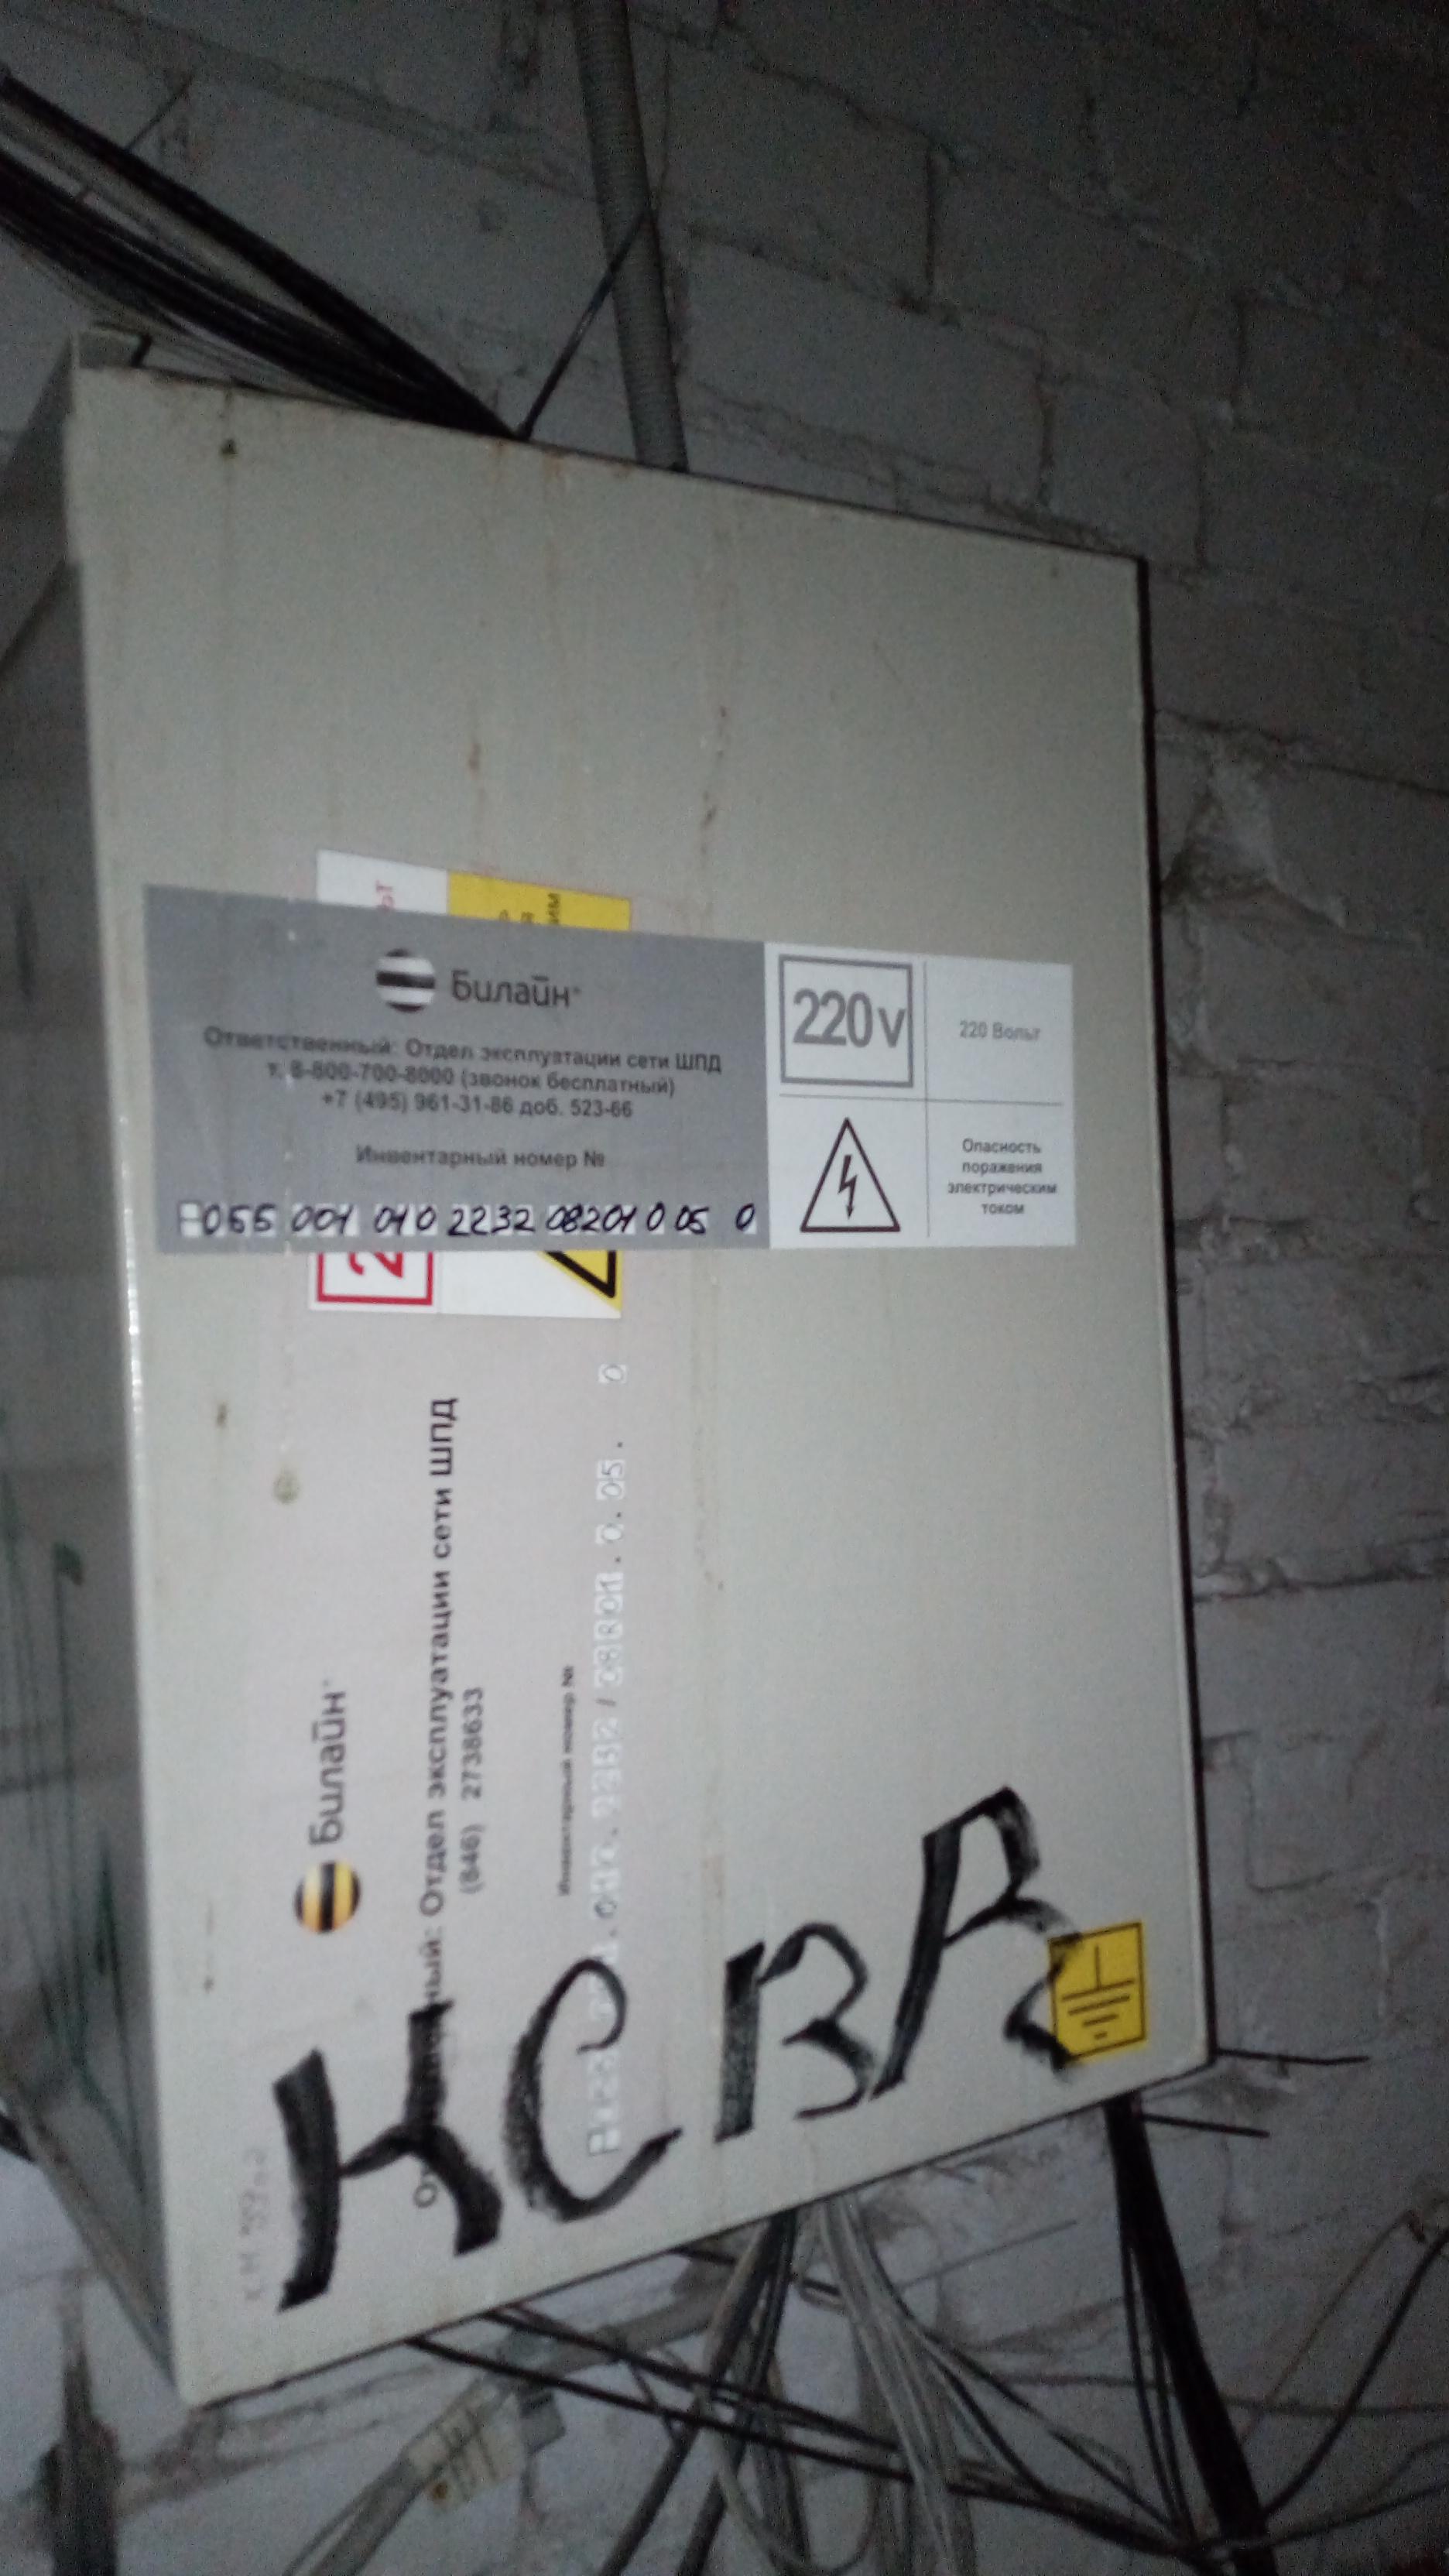sv-5: (11, 326, 1224, 2420)
